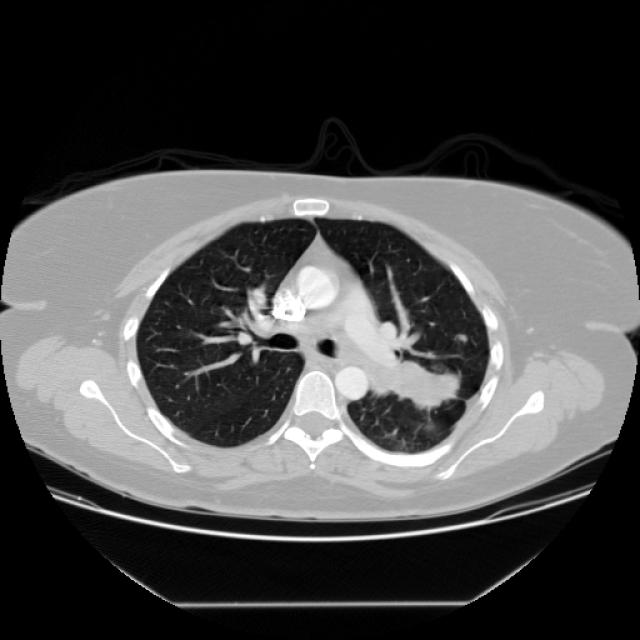nodule: (450, 325, 472, 347)
